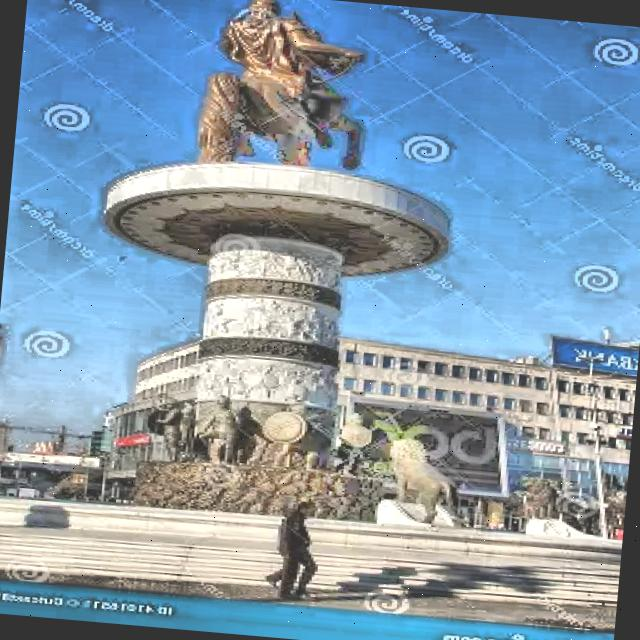alexander the great monument: (73, 0, 483, 536)
